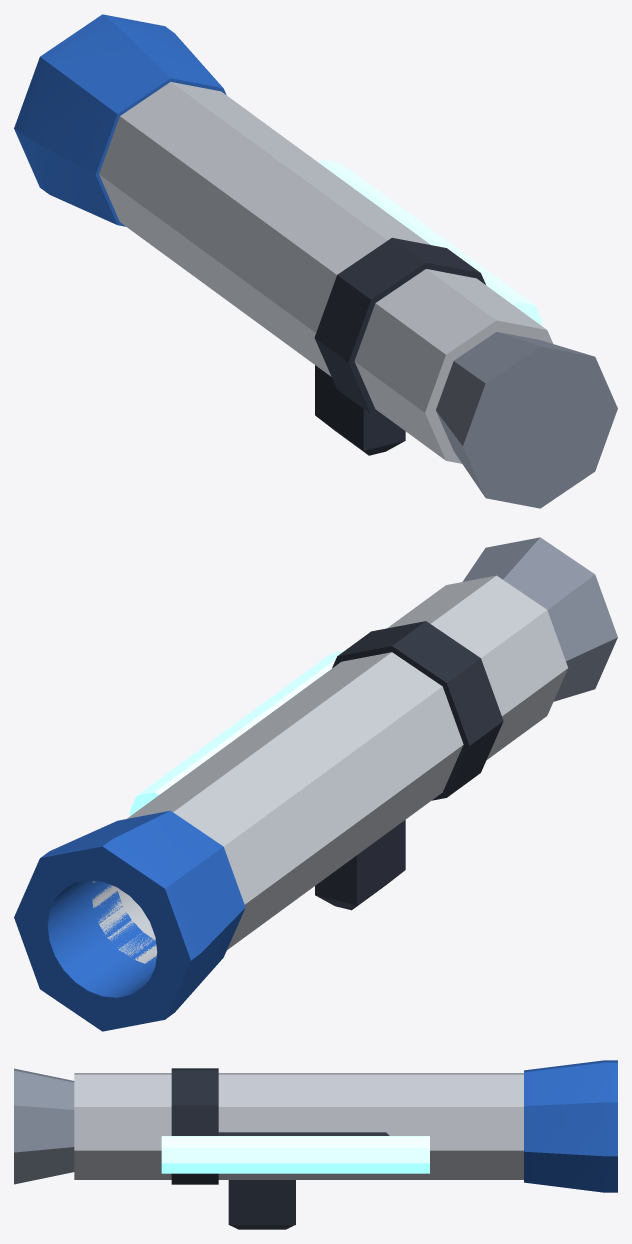
The model's file is w_a_aqua_heavy_bazooka.glb.
3 views of the same model, one above another, from view 1: azimuth 30°, elevation 25°; view 2: azimuth 150°, elevation 25°; view 3: azimuth 270°, elevation 25° (orthographic). The views are drawn at different scales.
Visible parts, largest first — view 1: weapon_team_color, weapon_body, weapon; view 2: weapon_team_color, weapon_body, weapon; view 3: weapon_team_color, weapon_body, weapon.
Part boxes in pixels (left/top/right/bottom): weapon_team_color: left=99, top=82, right=553, bottom=463; weapon_body: left=14, top=14, right=617, bottom=508; weapon: left=319, top=159, right=542, bottom=325; weapon_team_color: left=92, top=575, right=567, bottom=963; weapon_body: left=14, top=537, right=617, bottom=1031; weapon: left=129, top=650, right=344, bottom=815; weapon_team_color: left=74, top=1073, right=523, bottom=1179; weapon_body: left=14, top=1060, right=617, bottom=1229; weapon: left=161, top=1136, right=429, bottom=1173.
Bounding box in the file's own units: 1.41 × 1.62 × 5.4.
